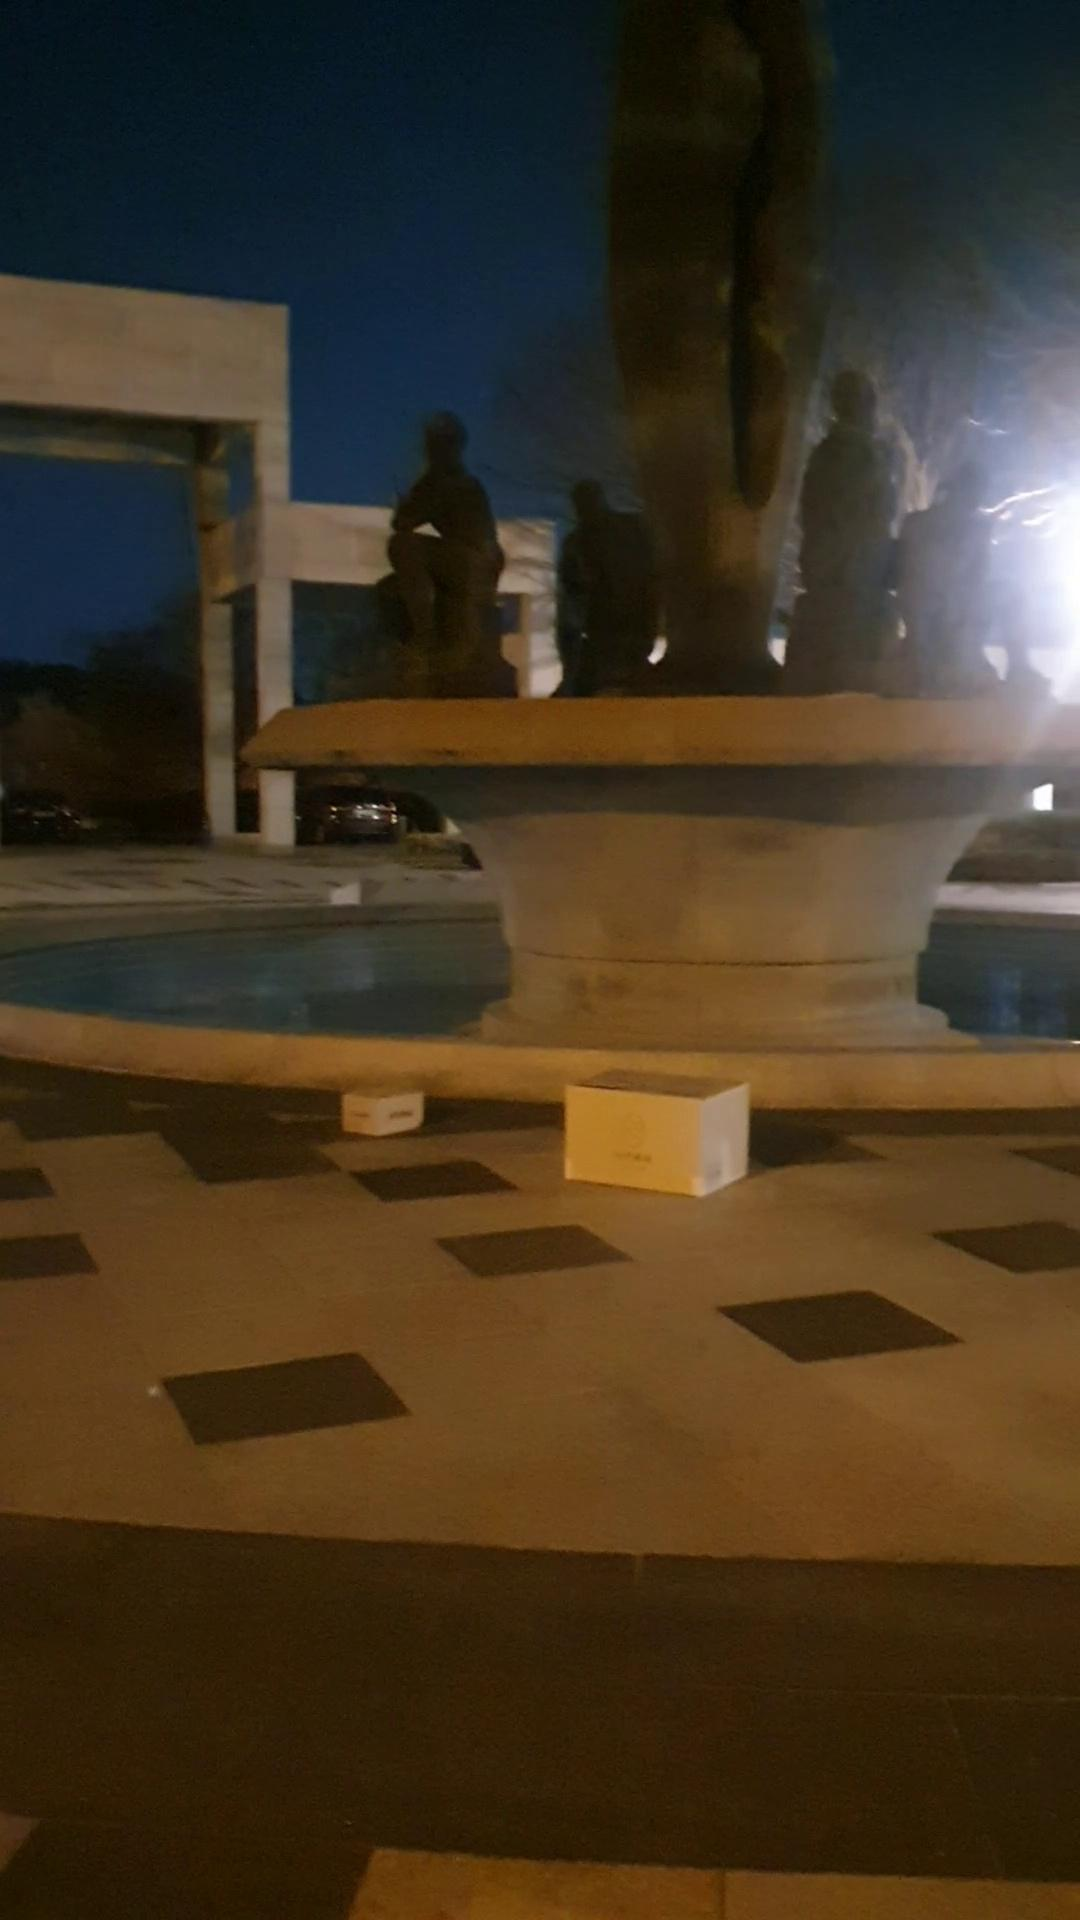Box: (560, 1054, 750, 1211), (323, 1055, 436, 1147)
